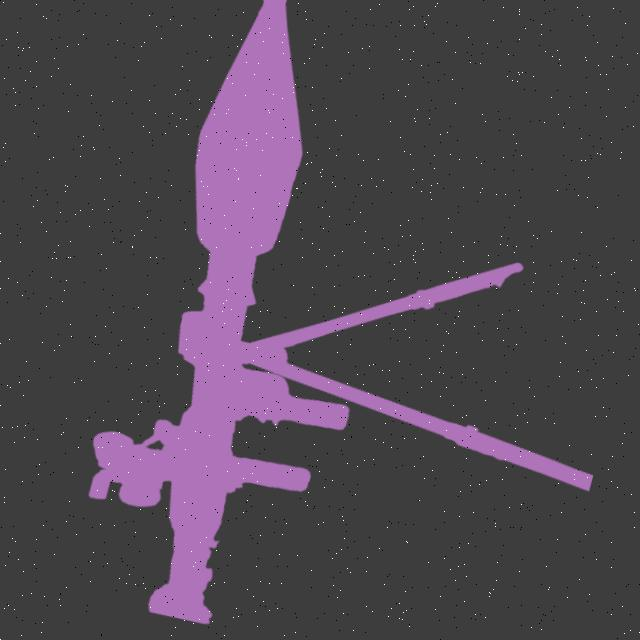grenade: (152, 0, 362, 306)
rocket: (54, 271, 376, 639)
